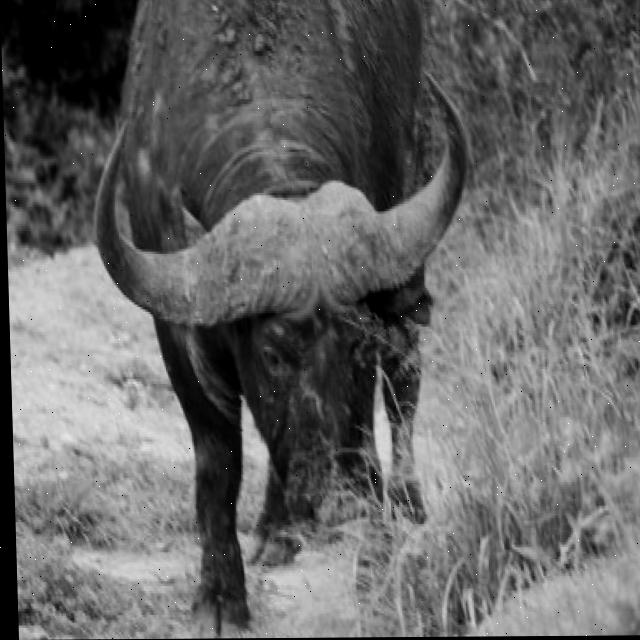Buffalo: (87, 0, 484, 639)
